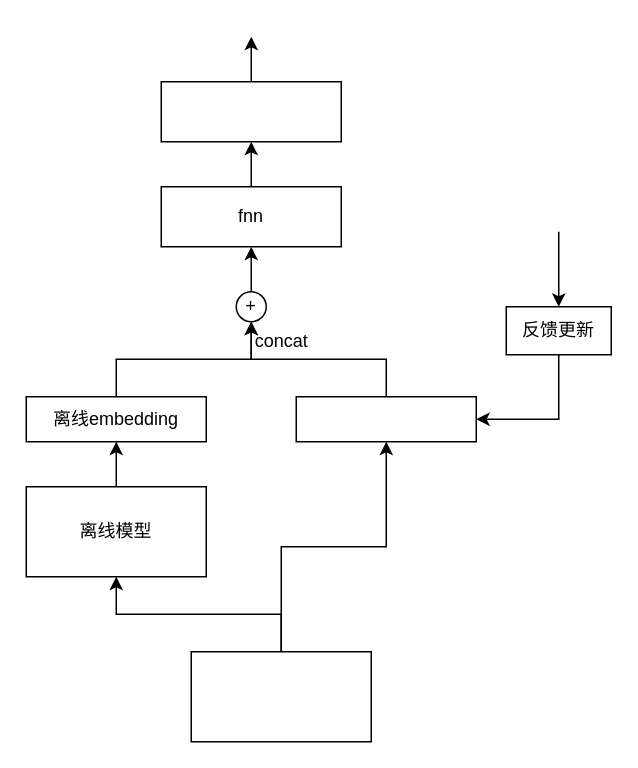
The diagram is 638 pixels wide and 768 high, and some of its shapes have lost their labels. Each missing label, with the centre of its shape:
"公式超参" goes at point (250, 111).
"用户请求" goes at point (280, 696).
"线上embedding" goes at point (385, 418).
